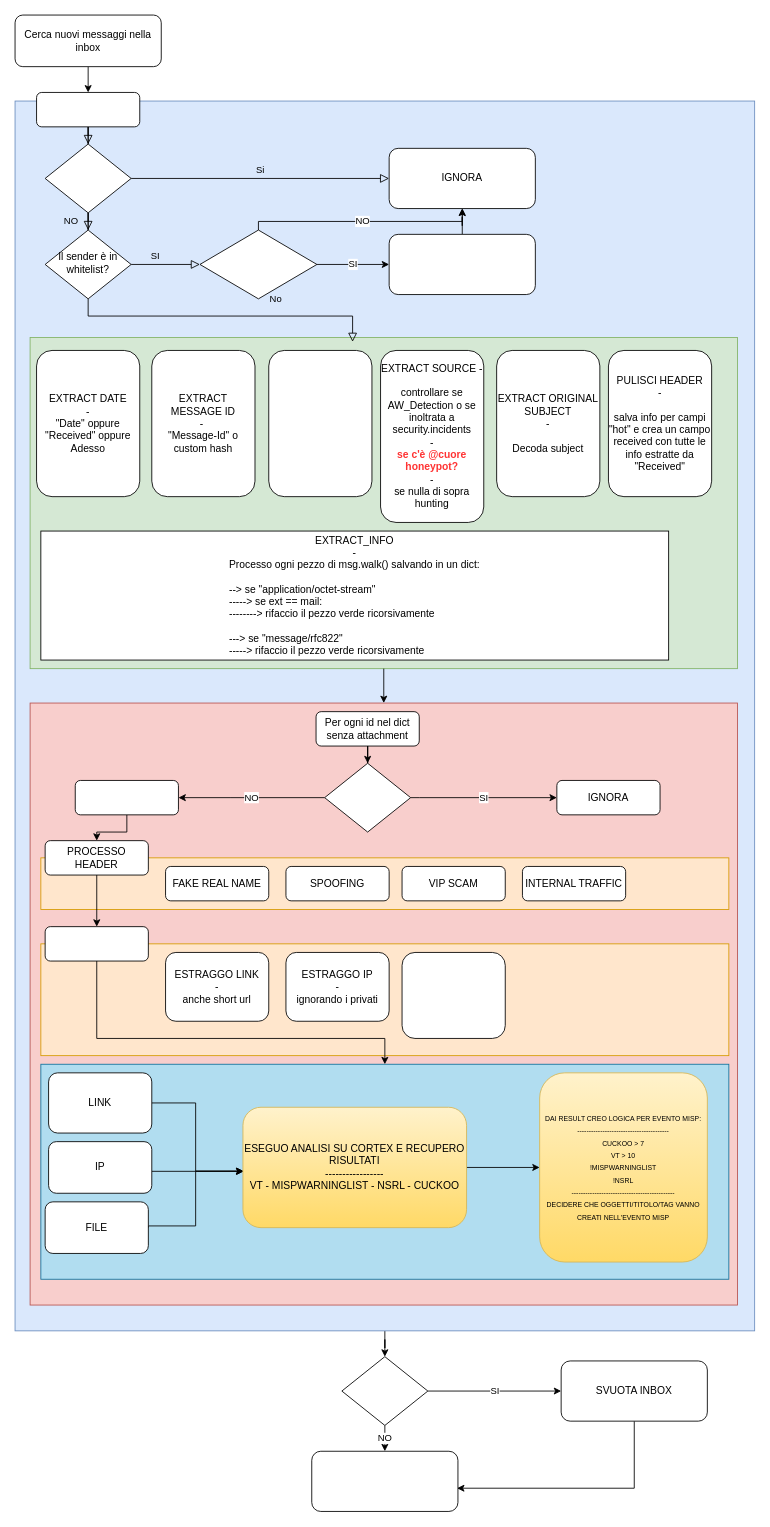
Image size: 770x1527. Some labels were removed from this diagram. The centre of each missing label's shape, as x and y in pixels:
Cancella mail: point (461, 264)
Cancellare mail in whitelist?: point (258, 264)
Ci sono messaggi vecchinella inbox?: point (384, 1390)
ESTRAGGO FILE - gli zip solo se con un solo file e non in whitelist: point (453, 995)
EXTRACT FROM, CC, TO - Decoda campi, se singolo bella altrimenti togli le ": point (320, 423)
INSERISCO A DB: point (126, 797)
LOGOUT INBOX: point (384, 1480)
Per ogni messaggio: point (88, 109)
PROCESSO MESSAGE: point (96, 943)
sender è in whitelist?: point (367, 797)
è già stato inserito?: point (87, 178)
